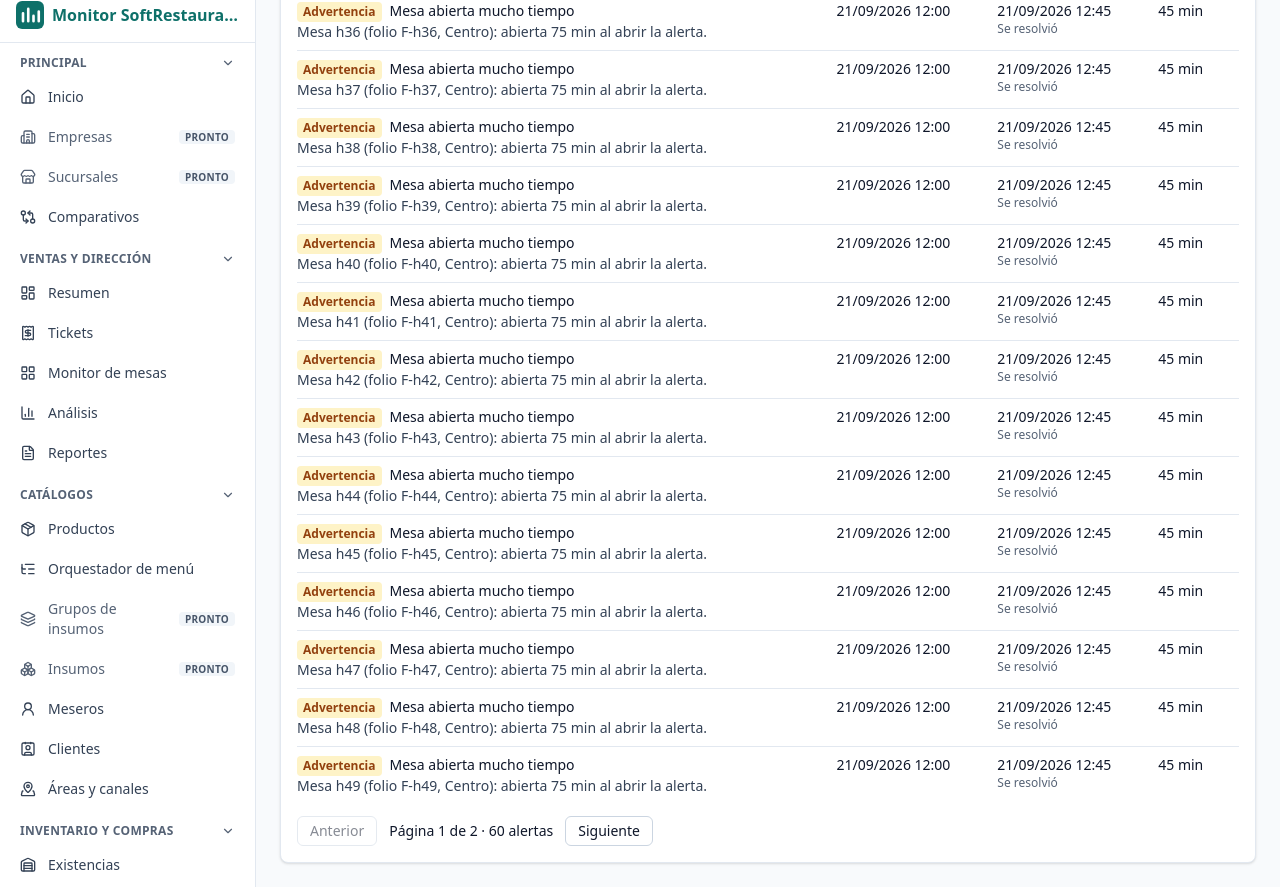
Scenario: vista /alertas › el historial pagina: la página 2 se pide al API
The width and height of the screenshot is (1280, 887).
(page scrolled)
Expected: the text with test id "alertas-pagina" reads "Página 1 de 2 · 60 alertas", top-left (389, 821), bottom-right (553, 841)
What coordinates should you click on to do the following:
click the button "Siguiente"
I would click on:
 (609, 831)
Its box is top-left (565, 816), bottom-right (653, 846).
(page scrolled)
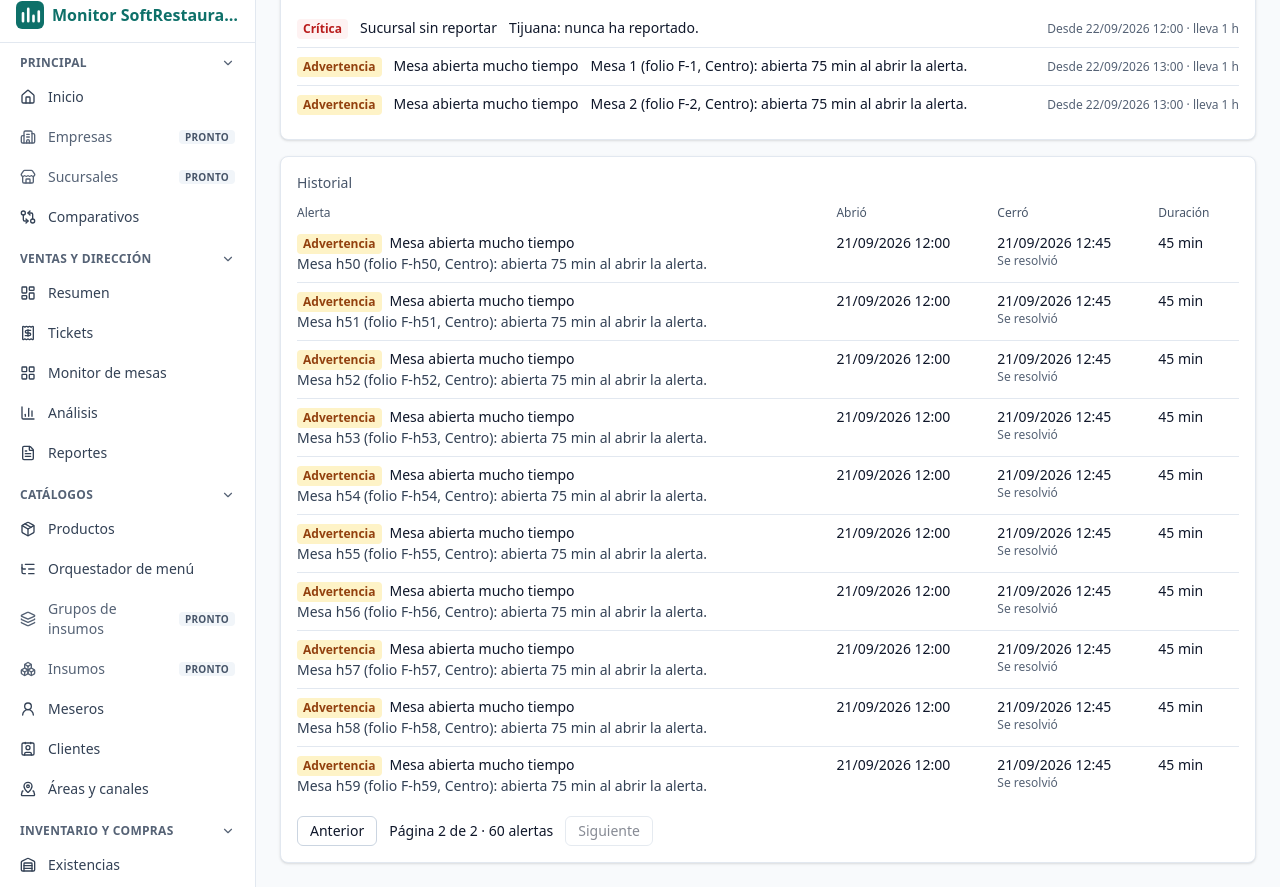
Now the text with test id "alertas-pagina" shows "Página 2 de 2", box top-left (389, 821), bottom-right (553, 841)
